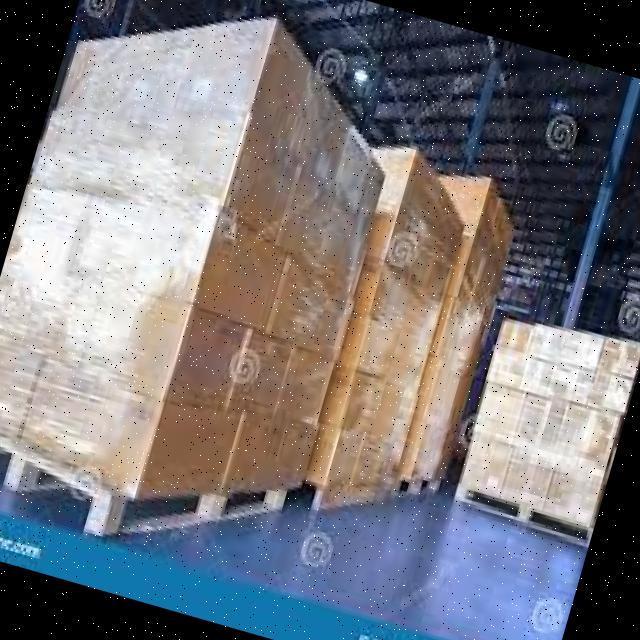Wooden-Pallets: (83, 472, 306, 545), (442, 474, 594, 557)
